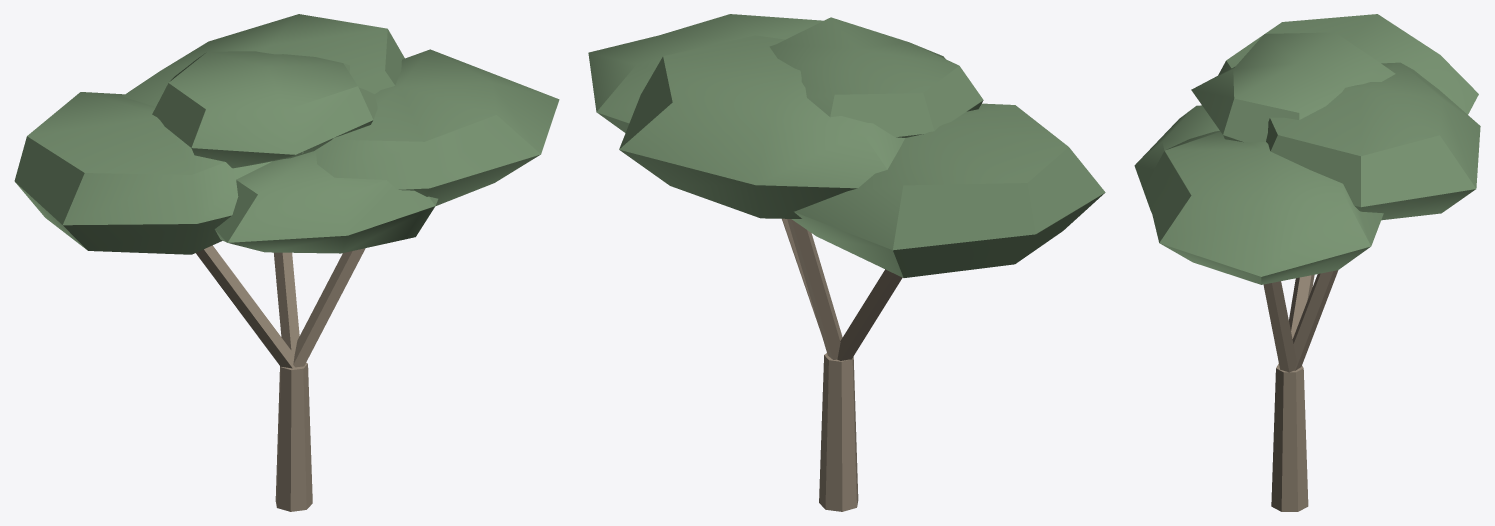
Rendered from cypress.glb.
3 renders of one model, left to right at view 1: azimuth 30°, elevation 25°; view 2: azimuth 150°, elevation 25°; view 3: azimuth 270°, elevation 25°, orthographic. The views are drawn at different scales.
Parts seen in each view (by area): view 1: Crown, Trunk; view 2: Crown, Trunk; view 3: Crown, Trunk.
Part boxes in pixels (x1=…): Crown: x1=14, y1=14, x2=559, y2=254; Trunk: x1=196, y1=245, x2=365, y2=511; Crown: x1=588, y1=14, x2=1105, y2=277; Trunk: x1=782, y1=218, x2=902, y2=511; Crown: x1=1134, y1=14, x2=1480, y2=284; Trunk: x1=1263, y1=270, x2=1338, y2=511.
Bounding box in the file's own units: 11.81 × 10.02 × 7.29.
